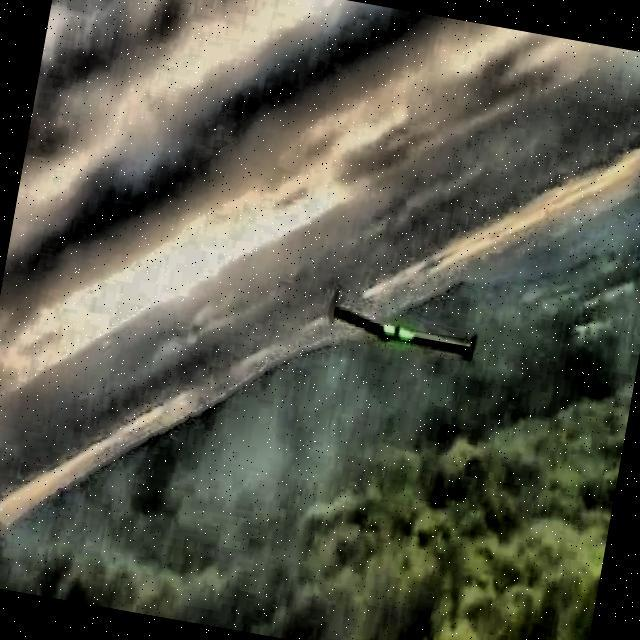iha: (305, 308, 489, 336)
